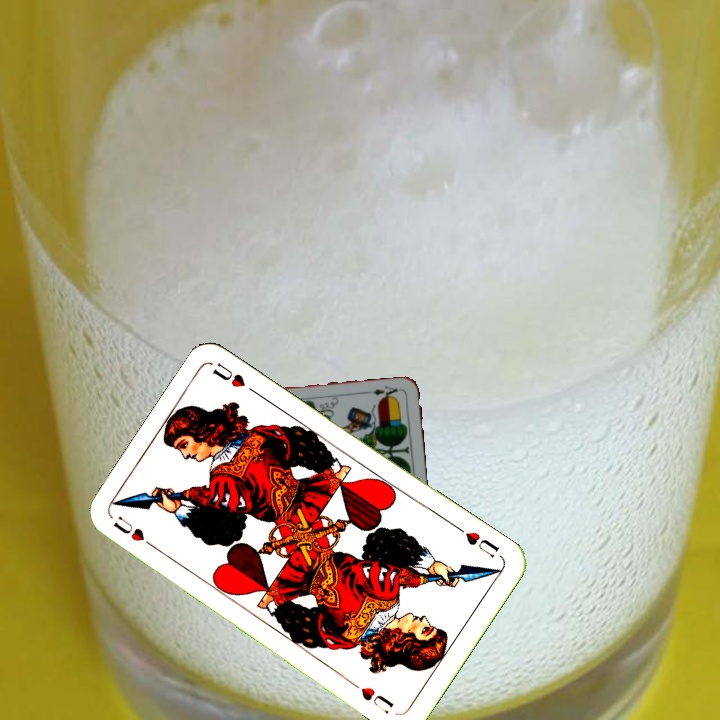EA: (369, 381, 403, 401)
HU: (109, 512, 160, 553), (452, 522, 502, 560)
